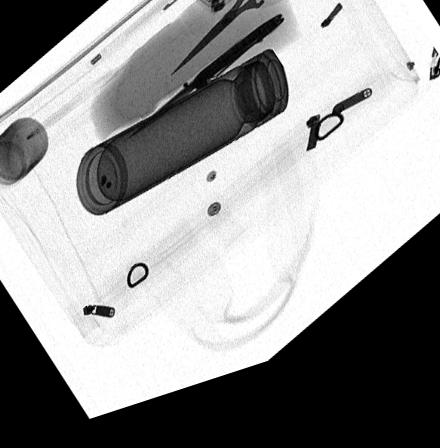Knife: (126, 28, 286, 145)
Scissors: (171, 0, 303, 85)
